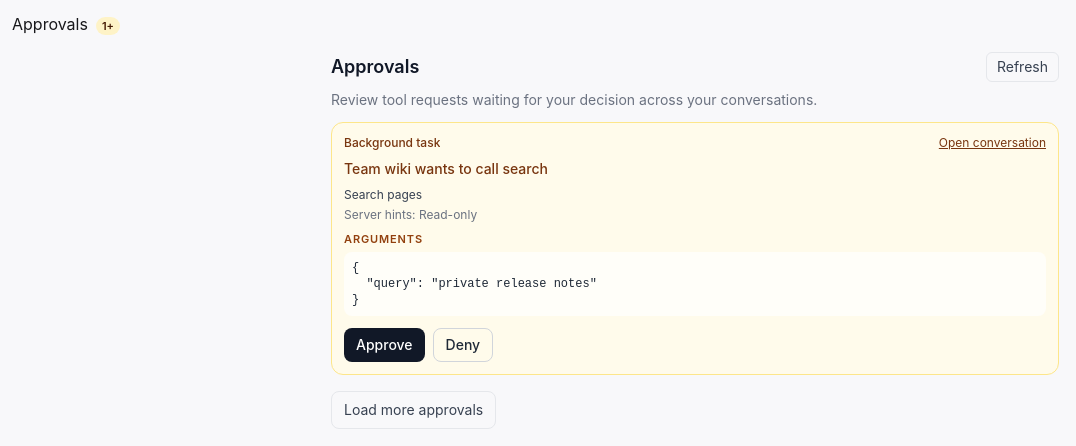
owner tool approvals › does not restore a decision while a later pending page is still loading
The width and height of the screenshot is (1076, 446).
Click the button "Load more approvals": (414, 410) [331, 390, 496, 428]
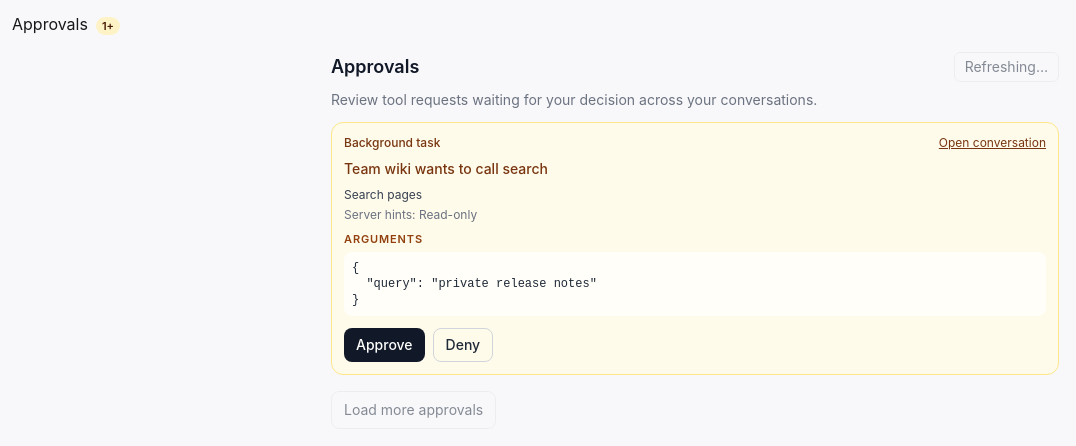
Click the button "Approve": (384, 344) [344, 328, 425, 362]
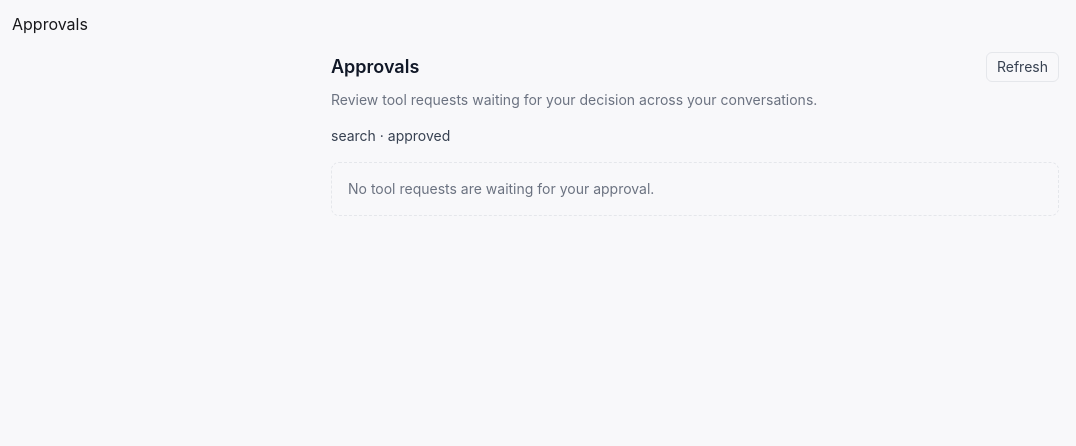
Result: the text "search · approved" is shown at [331, 127, 450, 144]
